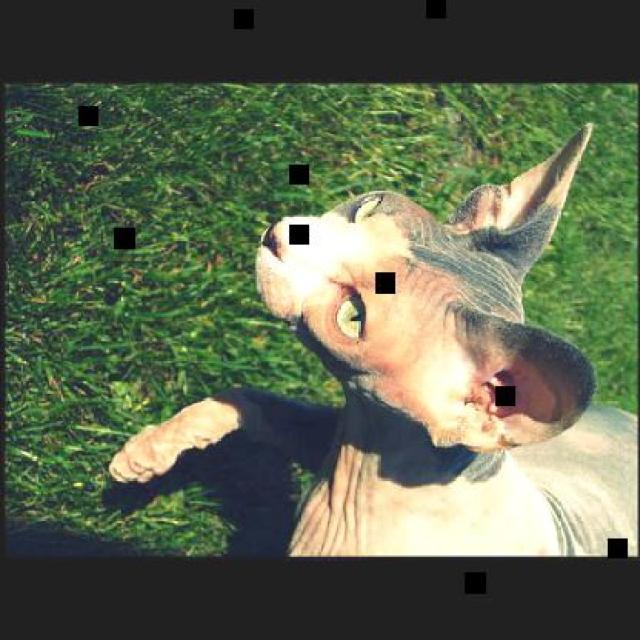unauthorized: (105, 120, 612, 555)
